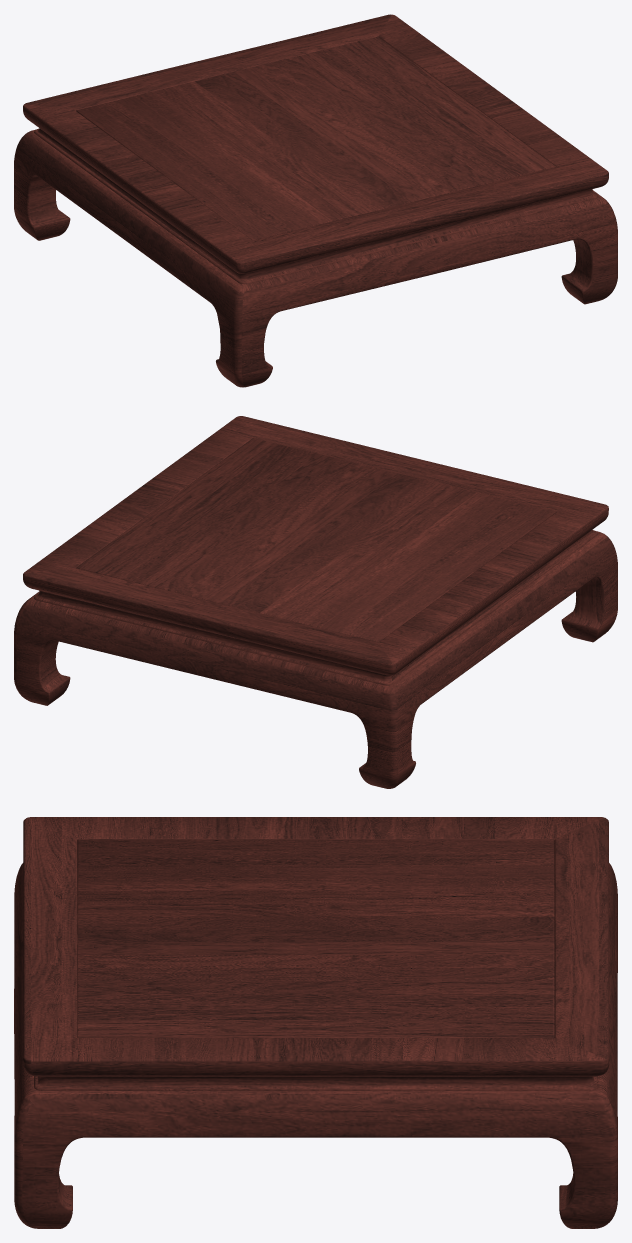
File: LC-矮桌子.fbx
3 views of the same model, one above another, from view 1: azimuth 30°, elevation 25°; view 2: azimuth 150°, elevation 25°; view 3: azimuth 270°, elevation 25° (orthographic). The views are drawn at different scales.
Visible parts, largest first — view 1: LC-矮桌子; view 2: LC-矮桌子; view 3: LC-矮桌子.
Boxes of the visible parts, x1,y1,x2,y2 form: LC-矮桌子: [14, 14, 617, 387]; LC-矮桌子: [14, 416, 617, 788]; LC-矮桌子: [14, 817, 617, 1228].
Size of the model in its own units: 1.21 by 1.23 by 0.3882.
